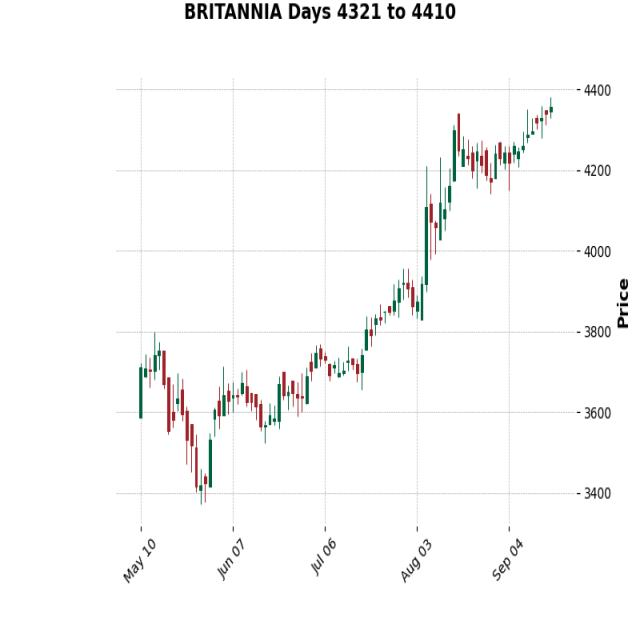Triple Bottom Reversal: (189, 328, 379, 449)
